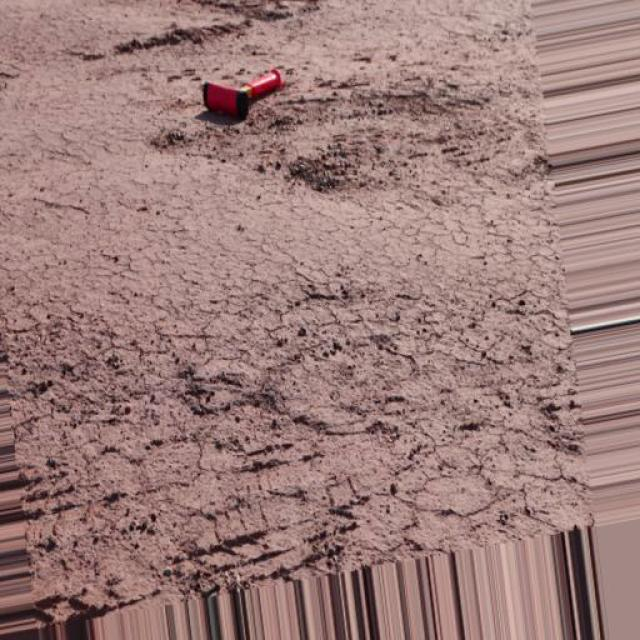mallet: (202, 66, 286, 120)
